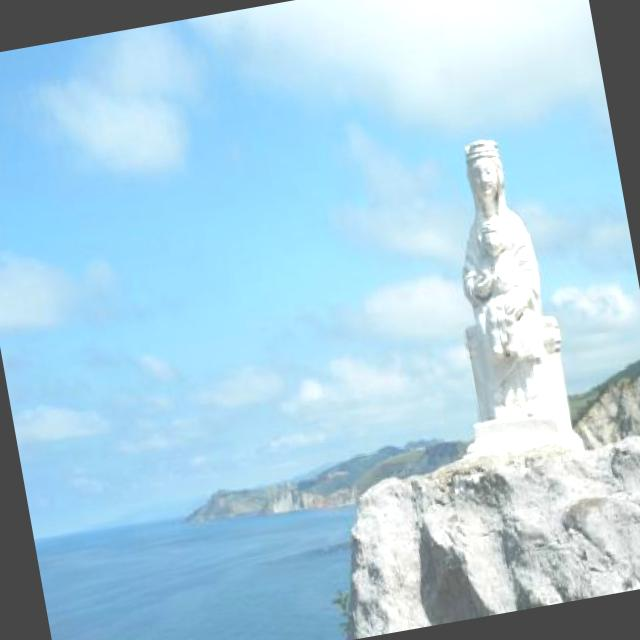Person: (441, 136, 564, 425), (470, 212, 539, 368)
